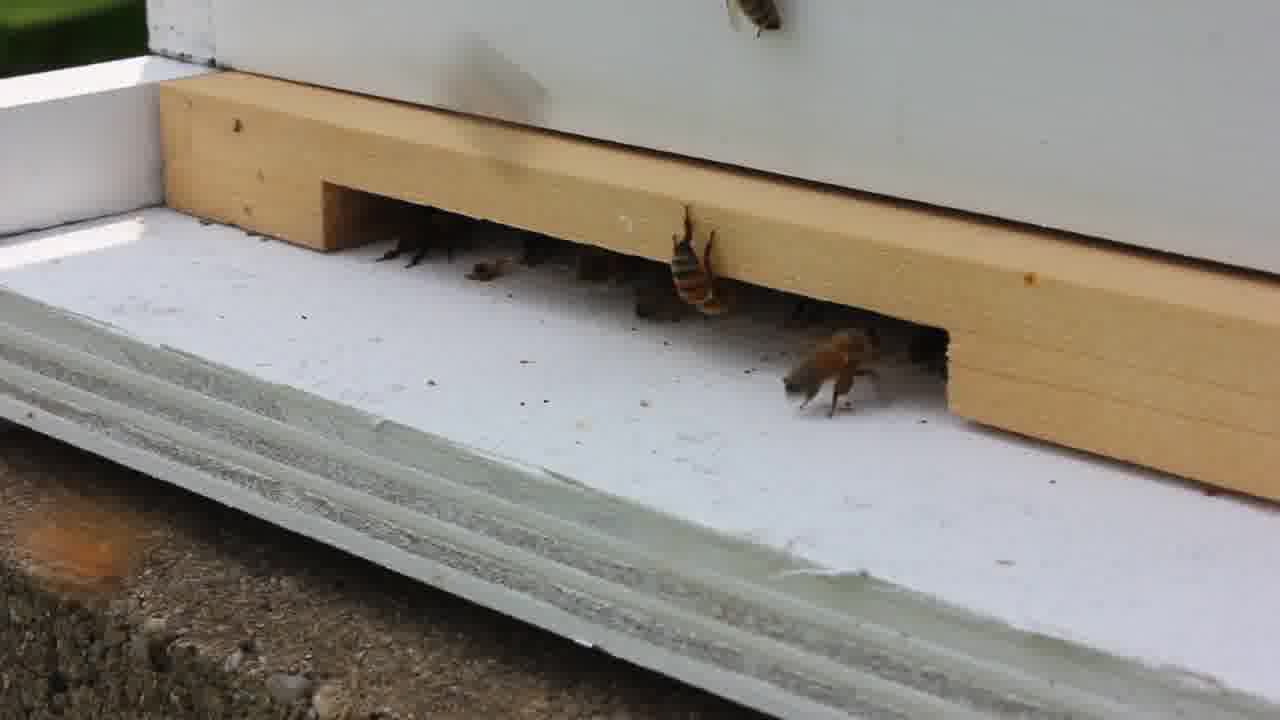pollen: (787, 329, 885, 419)
